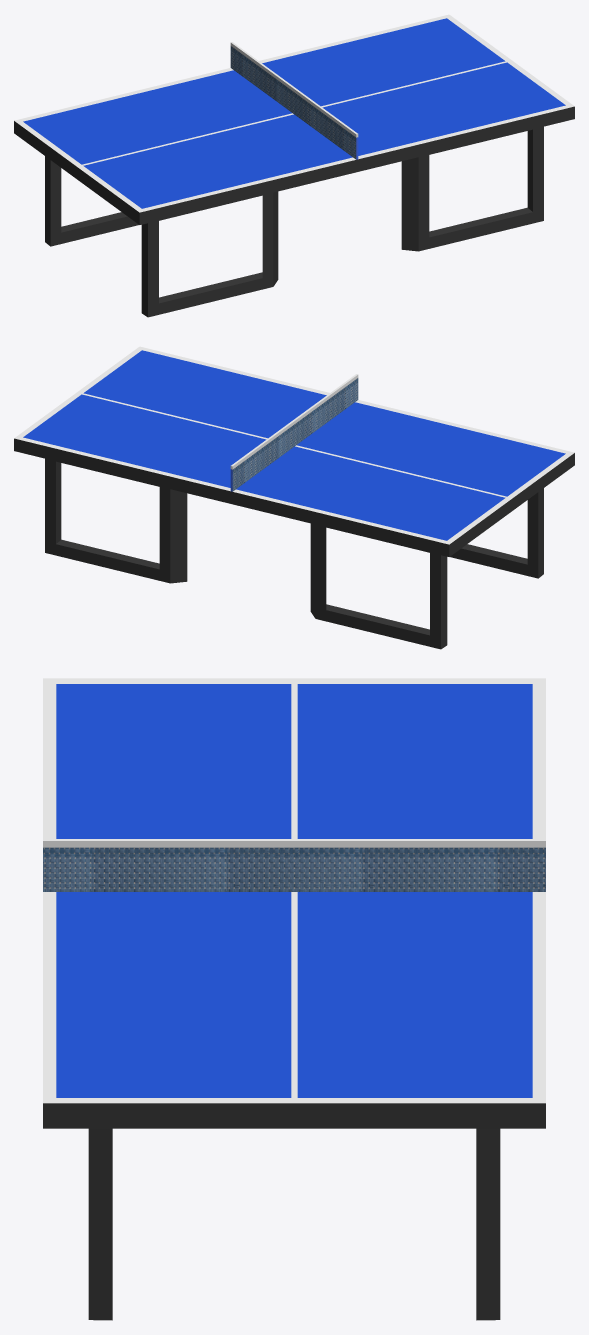
The model's file is pingpong.fbx.
The picture shows the model from 3 angles, top to bottom: view 1: azimuth 30°, elevation 25°; view 2: azimuth 150°, elevation 25°; view 3: azimuth 270°, elevation 25°; orthographic projection. The views are drawn at different scales.
Visible parts, largest first — view 1: Cube; view 2: Cube; view 3: Cube.
Boxes of the visible parts, x1,y1,x2,y2 form: Cube: (14,14,574,317); Cube: (14,346,574,649); Cube: (43,678,545,1320).
Bounding box in the file's own units: 400 × 126 × 200.
Materials: 5 (1 with a texture image).
